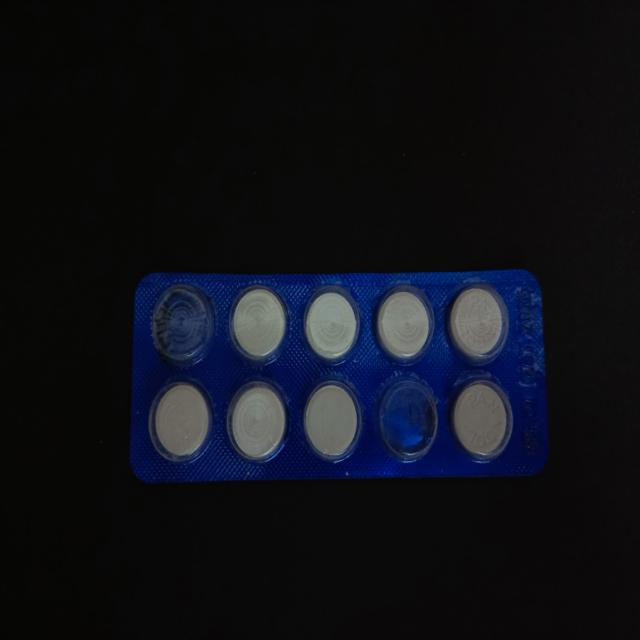defect: (372, 370, 443, 464), (145, 285, 218, 367)
